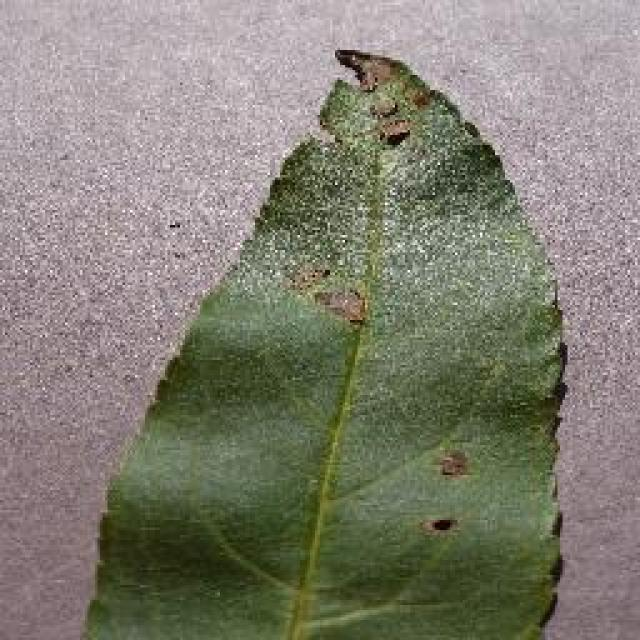Peach_Bacterial_Spot: (335, 93, 532, 540)
